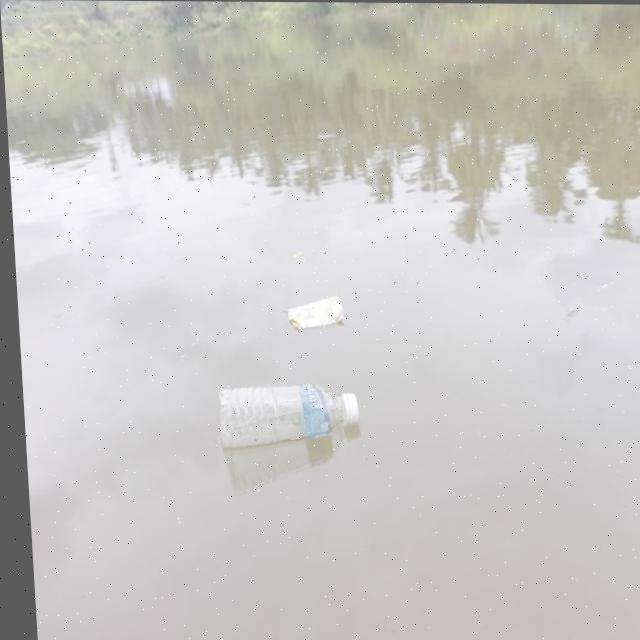paper: (272, 288, 347, 338)
waterbottle: (207, 362, 366, 458)
